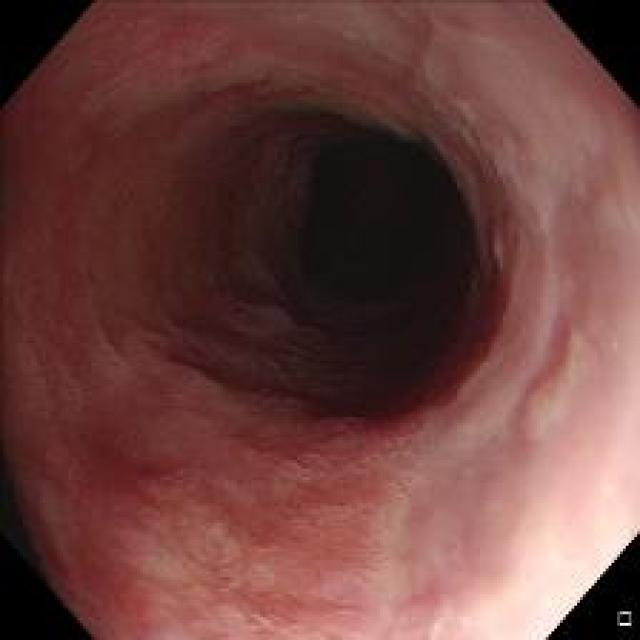color misalignment: (348, 111, 428, 145)
contrast: (260, 126, 488, 369)
saturation: (441, 509, 629, 631)
